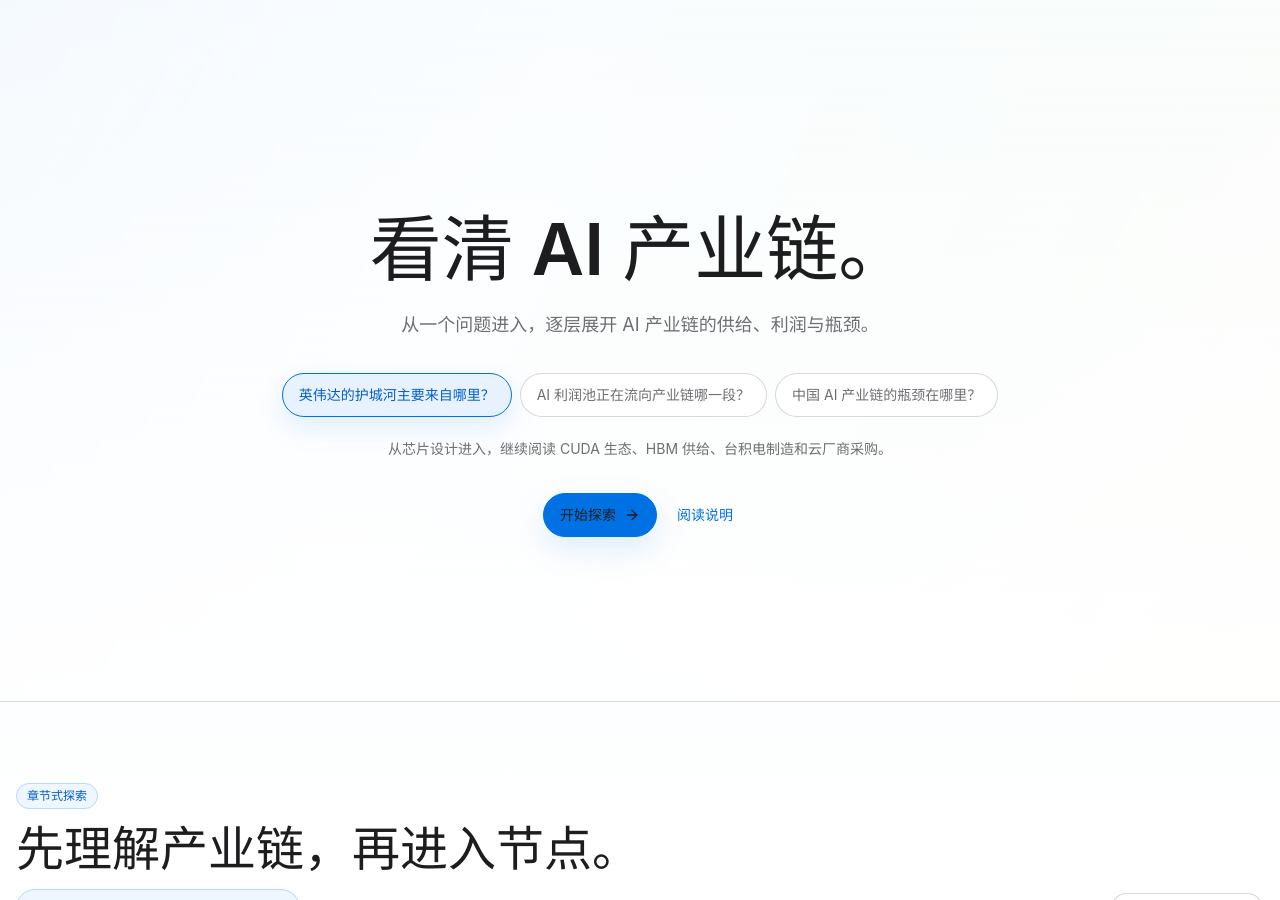
Test: AI 产业研究路由 › opens and closes on-demand homepage reading guidance
The image size is (1280, 900).
Click the button "阅读说明": point(705, 514) [673, 492, 737, 536]
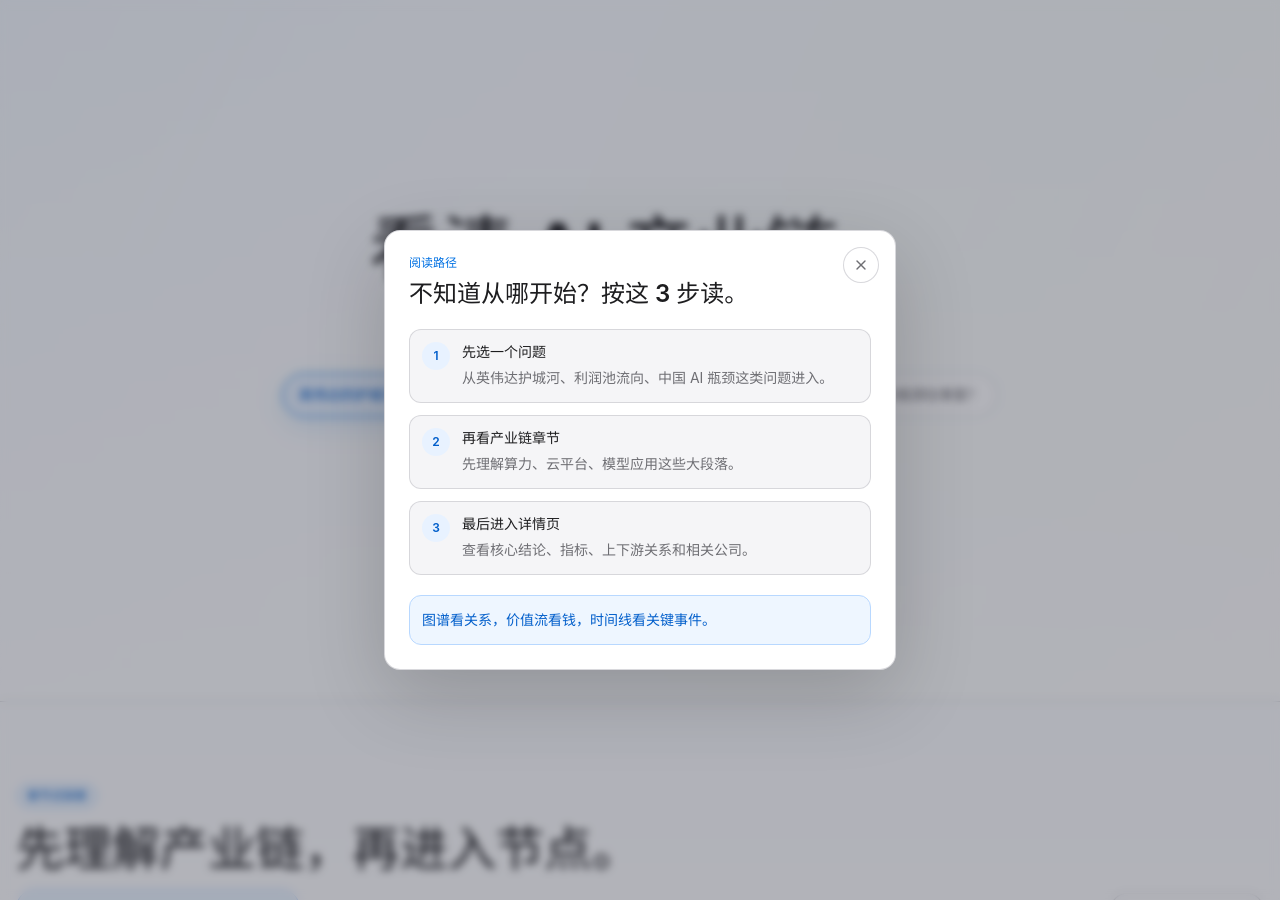
Expected: the dialog "不知道从哪开始？按这 3 步读。" is shown, [384, 230, 896, 670]
Expected: the text "先选一个问题" is shown, [462, 343, 546, 360]
Expected: the text "再看产业链章节" is shown, [462, 429, 560, 446]
Click the button named "关闭如何阅读": point(861, 265) [843, 247, 879, 283]
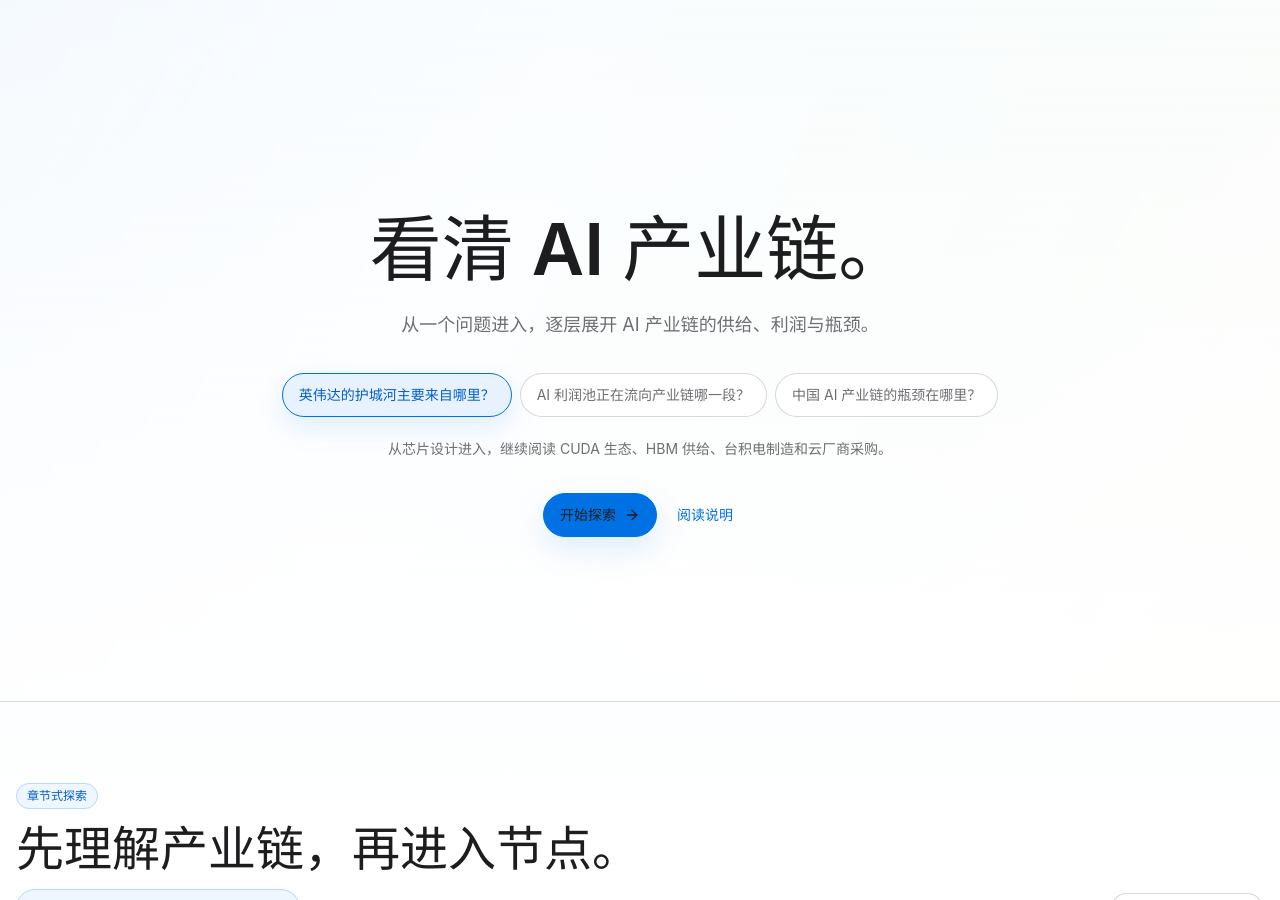
Expected: the heading "不知道从哪开始？按这 3 步读。" is gone
